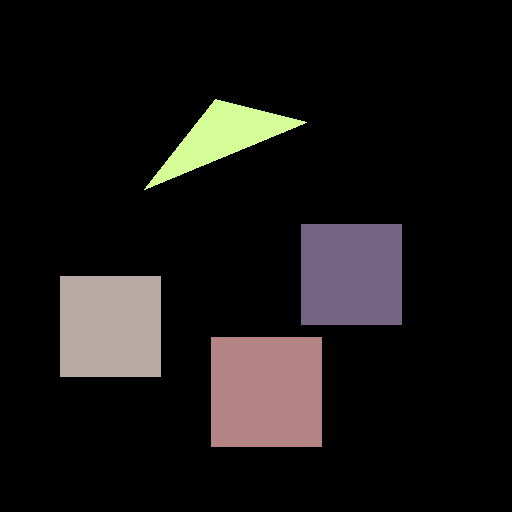square: (211, 337, 321, 446), (60, 276, 160, 376), (301, 224, 401, 324)
triangle: (144, 99, 306, 189)
